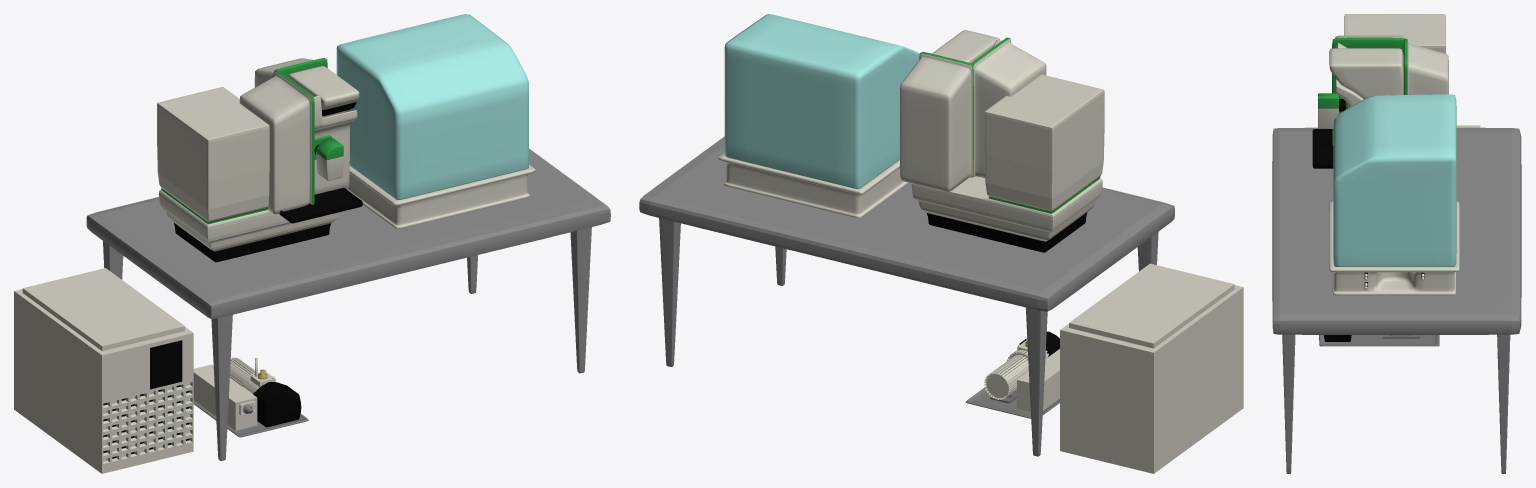
Rendered from analisimetalls(1).glb.
3 renders of one model, left to right at view 1: azimuth 30°, elevation 25°; view 2: azimuth 150°, elevation 25°; view 3: azimuth 270°, elevation 25°, orthographic. The views are drawn at different scales.
Parts seen in each view (by area): view 1: Cube.020, Cube.021, Metacrilato, Cube.001, Cube.002, Cube.011, Cube.023, Cube.025, Cube.019, Cube.005, Cube.004, Cube.016 (+4 smaller); view 2: Cube.021, Cube.020, Metacrilato, Cube.001, Cube.006, Cube.011, Cube.002, Cube.022, Cube.024, Cube.019, Cube.005, Cylinder.009 (+1 smaller); view 3: Cube.021, Metacrilato, Cube.011, Cube.005, Cube.001, Cube.006, Cube.025, Cube.024, Cube.015, Cube.002, Cube.003, Cube.027 (+1 smaller).
Boxes of the visible parts, left/top/right/bottom form: Cube.020: left=14, top=268, right=193, bottom=473; Cube.021: left=86, top=148, right=610, bottom=318; Metacrilato: left=336, top=14, right=528, bottom=200; Cube.001: left=157, top=87, right=338, bottom=262; Cube.002: left=239, top=70, right=314, bottom=214; Cube.011: left=347, top=164, right=535, bottom=228; Cube.023: left=211, top=314, right=232, bottom=460; Cube.025: left=570, top=227, right=591, bottom=373; Cube.019: left=193, top=364, right=257, bottom=430; Cube.005: left=288, top=66, right=359, bottom=117; Cube.004: left=313, top=95, right=357, bottom=194; Cube.016: left=253, top=382, right=301, bottom=427; Cube.021: left=639, top=136, right=1174, bottom=311; Cube.020: left=1060, top=263, right=1243, bottom=473; Metacrilato: left=724, top=14, right=919, bottom=188; Cube.001: left=911, top=74, right=1104, bottom=252; Cube.006: left=900, top=52, right=973, bottom=192; Cube.011: left=718, top=153, right=908, bottom=218; Cube.002: left=972, top=37, right=1046, bottom=177; Cube.022: left=1026, top=307, right=1047, bottom=456; Cube.024: left=659, top=218, right=680, bottom=366; Cube.019: left=1017, top=349, right=1059, bottom=411; Cube.005: left=932, top=30, right=999, bottom=63; Cylinder.009: left=984, top=355, right=1028, bottom=399; Cube.021: left=1272, top=127, right=1521, bottom=334; Metacrilato: left=1333, top=94, right=1456, bottom=266; Cube.011: left=1329, top=201, right=1459, bottom=295; Cube.005: left=1329, top=48, right=1403, bottom=99; Cube.001: left=1344, top=14, right=1445, bottom=53; Cube.006: left=1403, top=38, right=1448, bottom=94; Cube.025: left=1282, top=334, right=1295, bottom=473; Cube.024: left=1497, top=334, right=1510, bottom=473; Cube.015: left=1319, top=335, right=1439, bottom=346; Cube.002: left=1332, top=35, right=1404, bottom=144; Cube.003: left=1312, top=129, right=1333, bottom=168; Cube.027: left=1318, top=93, right=1338, bottom=128.
Bounding box in the file's own units: 24.35 × 15.21 × 10.86.
